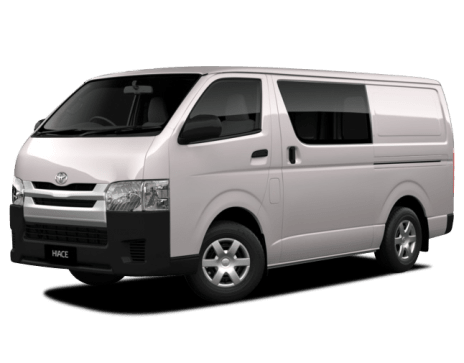van: (10, 65, 455, 303)
